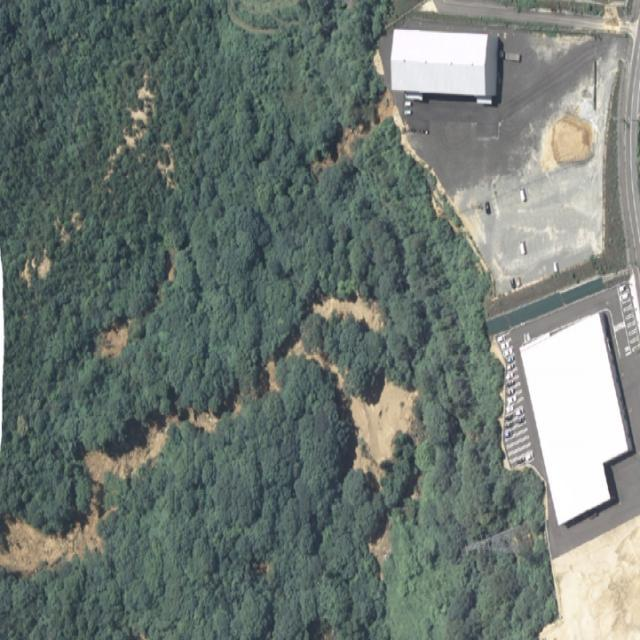landslide: (0, 414, 179, 576), (346, 380, 418, 484), (287, 340, 344, 390), (313, 297, 383, 330), (369, 529, 390, 569), (186, 409, 219, 434)
